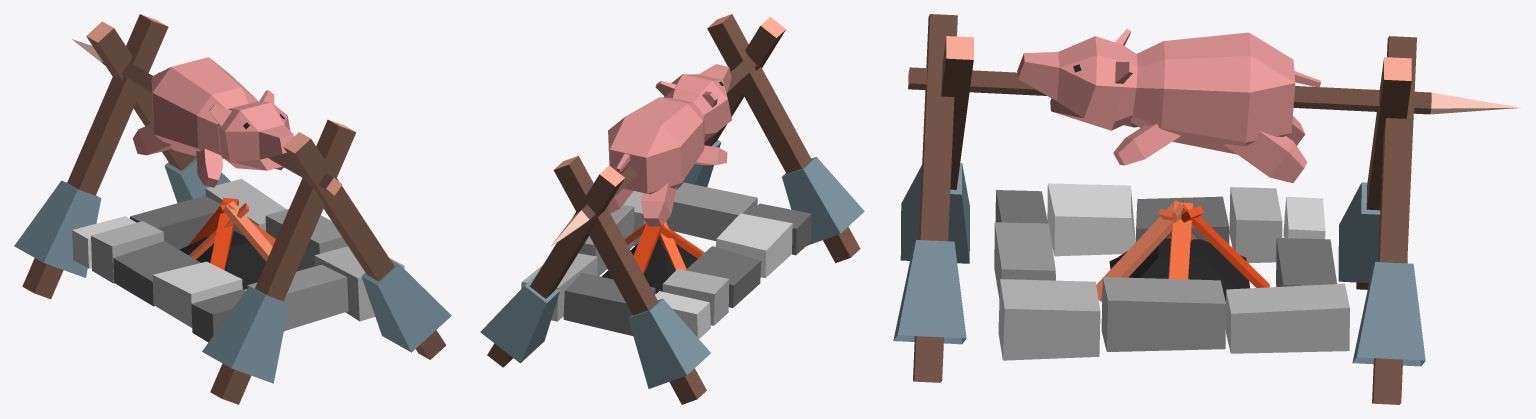
The model's file is prop_003.fbx.
3 renders of one model, left to right at view 1: azimuth 30°, elevation 25°; view 2: azimuth 150°, elevation 25°; view 3: azimuth 270°, elevation 25°, orthographic. The views are drawn at different scales.
Parts seen in each view (by area): view 1: prop.003; view 2: prop.003; view 3: prop.003.
Part boxes in pixels (x1,y1,x2,y2): prop.003: (14,14,451,404); prop.003: (480,14,864,404); prop.003: (893,14,1520,404).
Bounding box in the file's own units: 293 × 321 × 554.
Materials: 1 (1 with a texture image).
